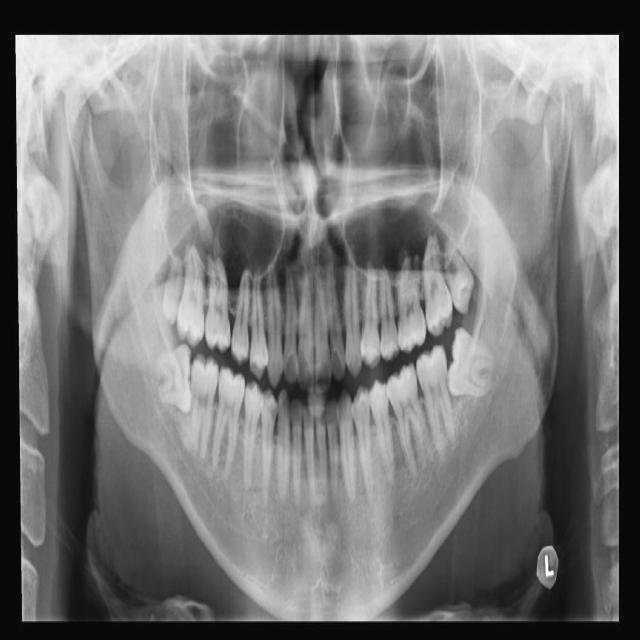Caries: (270, 410, 278, 423)
impacted tooth: (447, 328, 500, 395), (142, 344, 192, 411), (442, 237, 478, 311), (161, 254, 184, 321)
